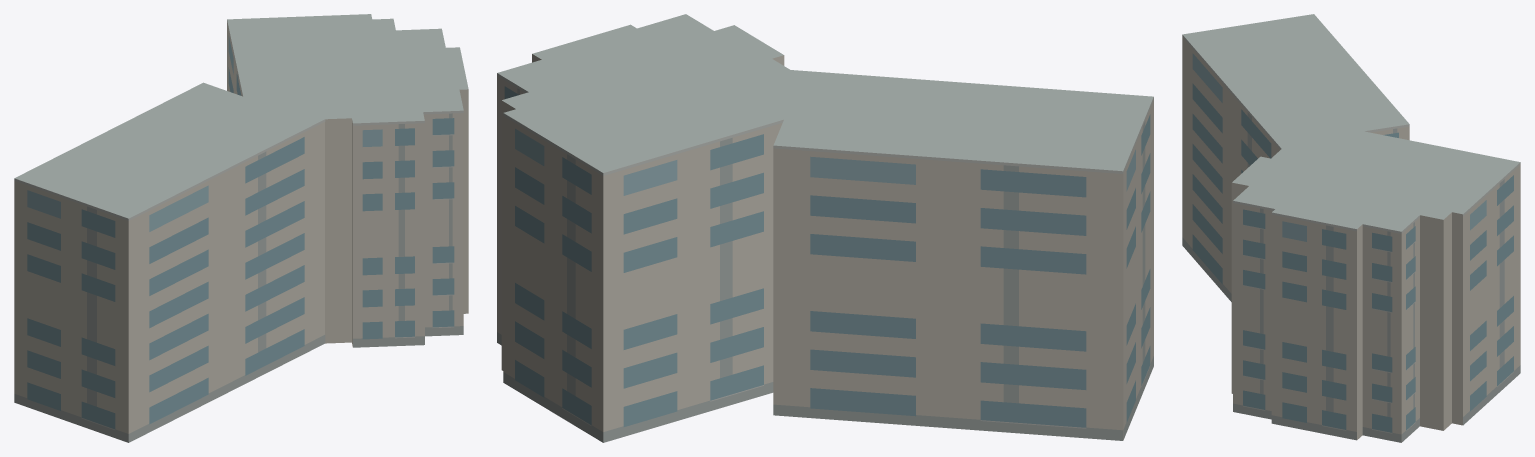
Rendered from residential-7f659e66-2137-4a84-8b9b-13c8ee07cd7b.glb.
3 renders of one model, left to right at view 1: azimuth 30°, elevation 25°; view 2: azimuth 150°, elevation 25°; view 3: azimuth 270°, elevation 25°, orthographic. The views are drawn at different scales.
Visible parts, largest first — view 1: residential-7f659e66-2137-4a84-8b9b-13c8ee07cd7b.tmp; view 2: residential-7f659e66-2137-4a84-8b9b-13c8ee07cd7b.tmp; view 3: residential-7f659e66-2137-4a84-8b9b-13c8ee07cd7b.tmp.
Part boxes in pixels (x1=…): residential-7f659e66-2137-4a84-8b9b-13c8ee07cd7b.tmp: x1=14, y1=14, x2=468, y2=442; residential-7f659e66-2137-4a84-8b9b-13c8ee07cd7b.tmp: x1=497, y1=14, x2=1153, y2=442; residential-7f659e66-2137-4a84-8b9b-13c8ee07cd7b.tmp: x1=1182, y1=14, x2=1520, y2=442.
Bounding box in the file's own units: 50.88 × 23 × 33.4.
